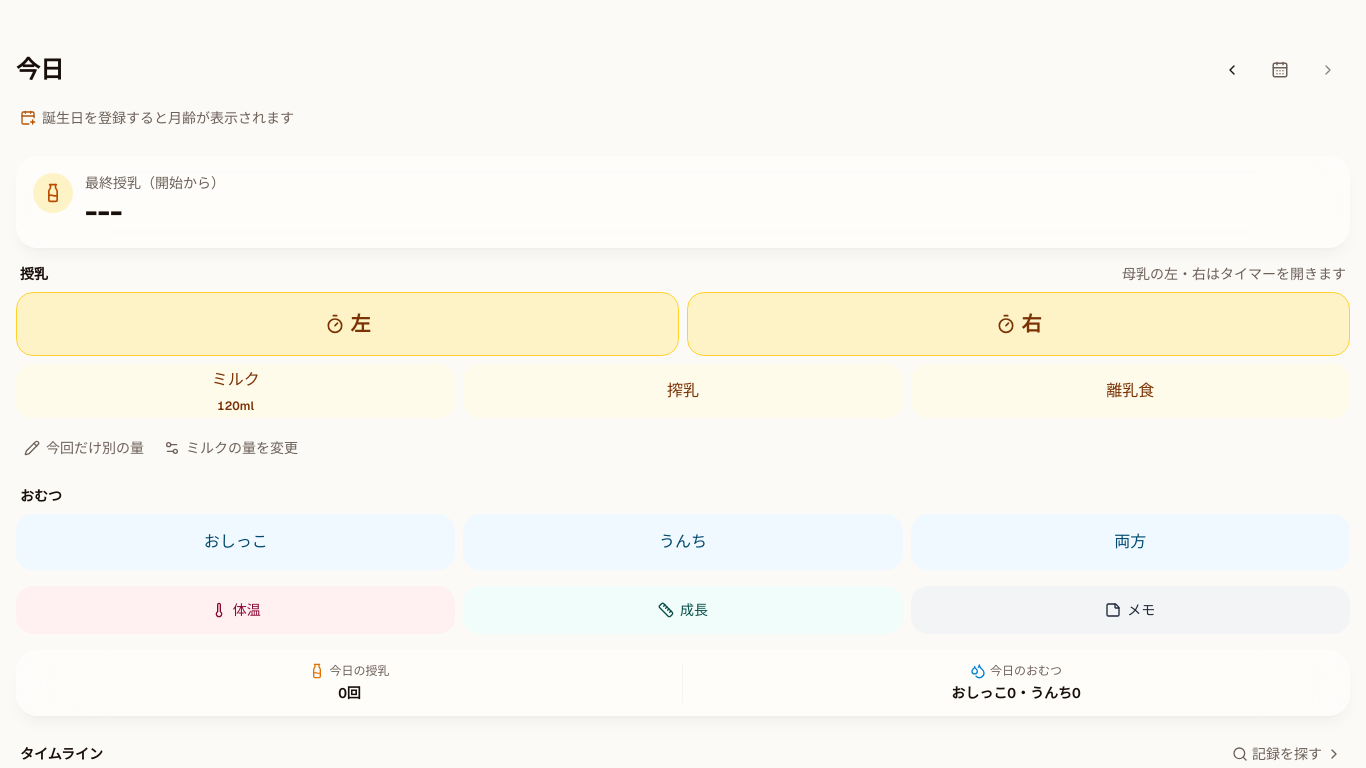
Scenario: BabyDashboard / 日付ナビの育児日記 refetch（W-1: fail-to-empty） › 日記 fetch が error のとき前の日の日記を残さない（誤日付上書き経路の遮断）
This screenshot has width=1366, height=768.
Click the button named "前の日": [1232, 70] box [1210, 48, 1254, 92]
(page scrolled)
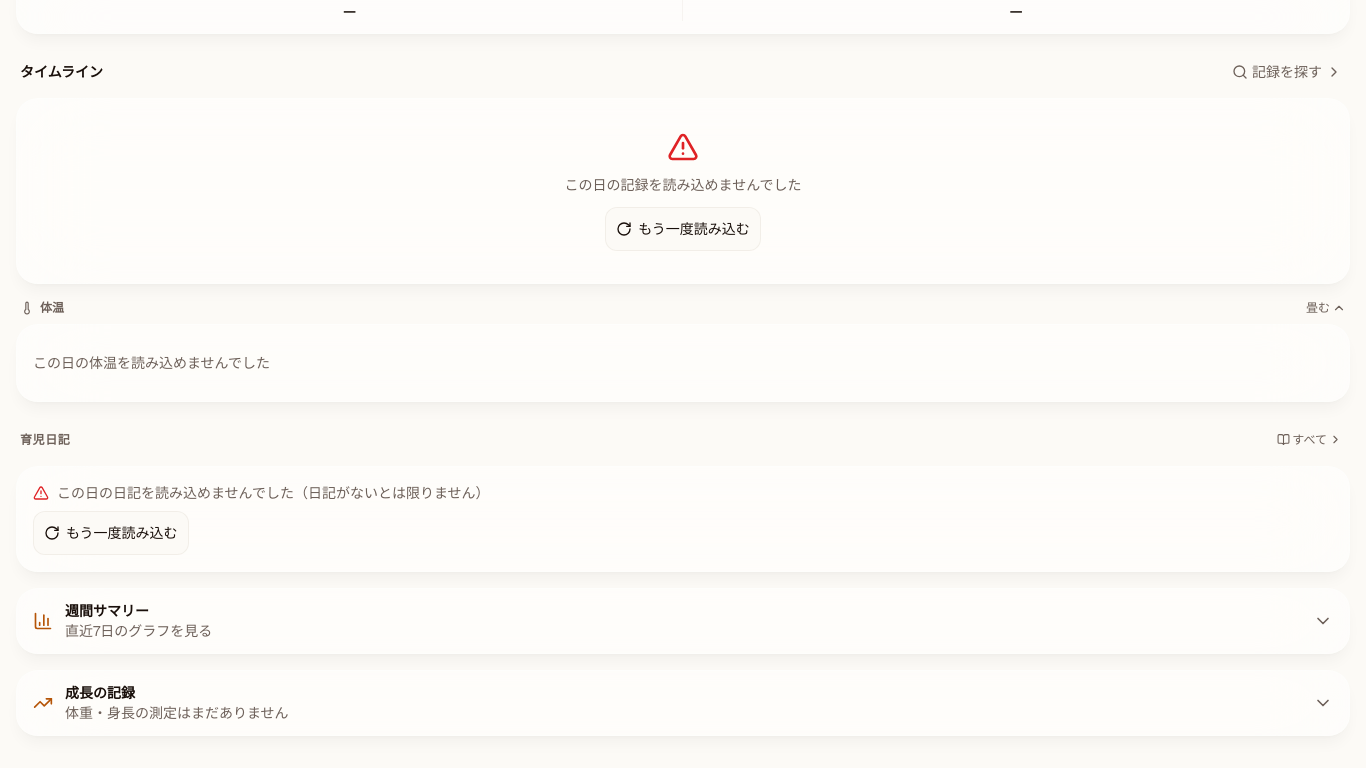
expect the text "この日の日記を読み込めませんでした（日記がないとは限りません）" is shown: met, box [33, 482, 490, 502]
